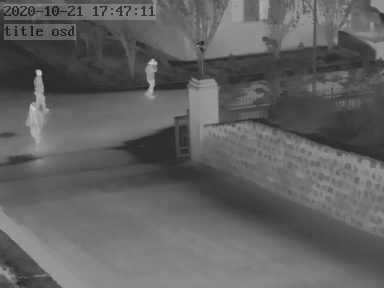person: (26, 99, 42, 149), (33, 69, 49, 116), (143, 57, 158, 97)
